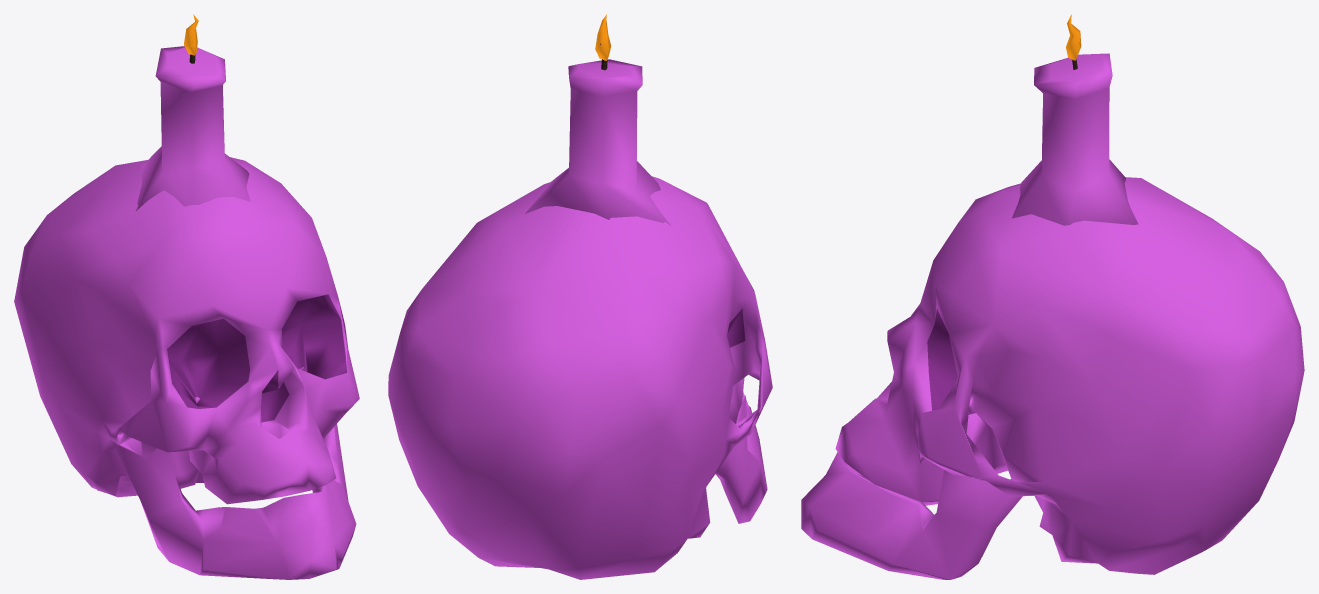
The model's file is CandleSkullShapeB.017.glb.
3 renders of one model, left to right at view 1: azimuth 30°, elevation 25°; view 2: azimuth 150°, elevation 25°; view 3: azimuth 270°, elevation 25°, orthographic. The views are drawn at different scales.
Parts seen in each view (by area): view 1: CandleSkullShapeB.017; view 2: CandleSkullShapeB.017; view 3: CandleSkullShapeB.017.
Part boxes in pixels (<box>): CandleSkullShapeB.017: <box>14,14,359,579</box>; CandleSkullShapeB.017: <box>388,14,772,579</box>; CandleSkullShapeB.017: <box>801,14,1304,579</box>.
Size of the model in its own units: 0.2005 by 0.3649 by 0.3132.
Materials: 2 (2 with a texture image).
